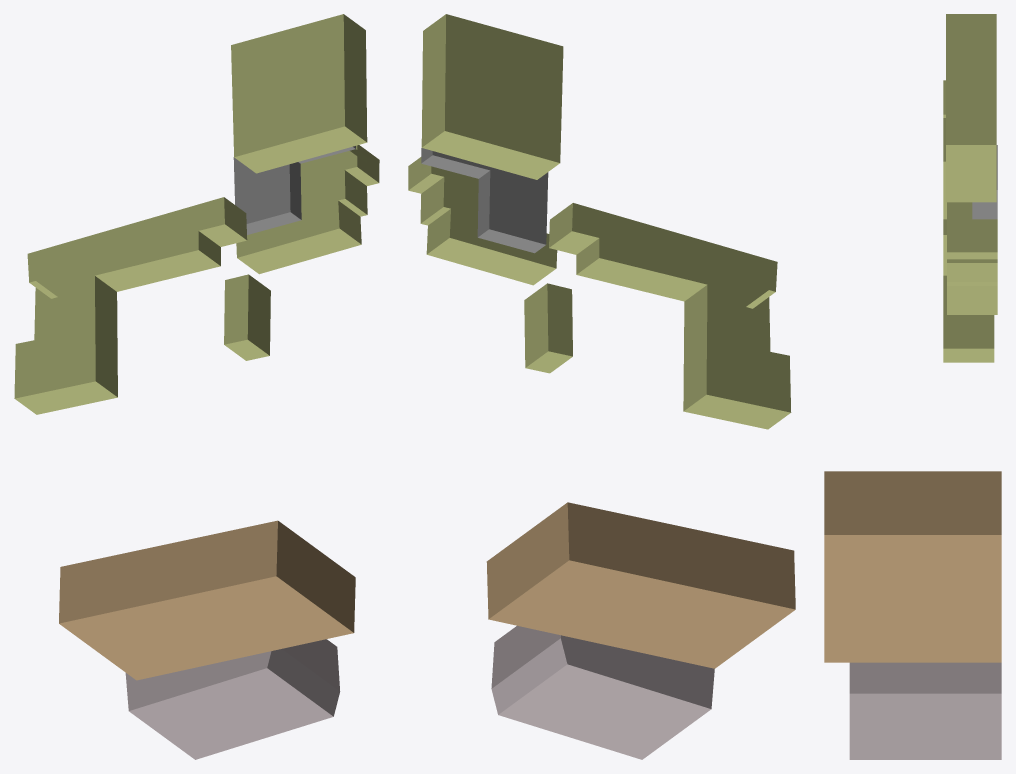
3 renders of one model, left to right at view 1: azimuth 30°, elevation 25°; view 2: azimuth 150°, elevation 25°; view 3: azimuth 270°, elevation 25°, orthographic. The views are drawn at different scales.
Visible parts, largest first — view 1: 0_3_0_1_2_2_2_2; view 2: 0_3_0_1_2_2_2_2; view 3: 0_3_0_1_2_2_2_2.
Part boxes in pixels (x1,y1,x2,y2): 0_3_0_1_2_2_2_2: [14, 14, 379, 759]; 0_3_0_1_2_2_2_2: [408, 14, 795, 759]; 0_3_0_1_2_2_2_2: [824, 14, 1001, 759].
Size of the model in its own units: 53.72 by 96.45 by 21.
